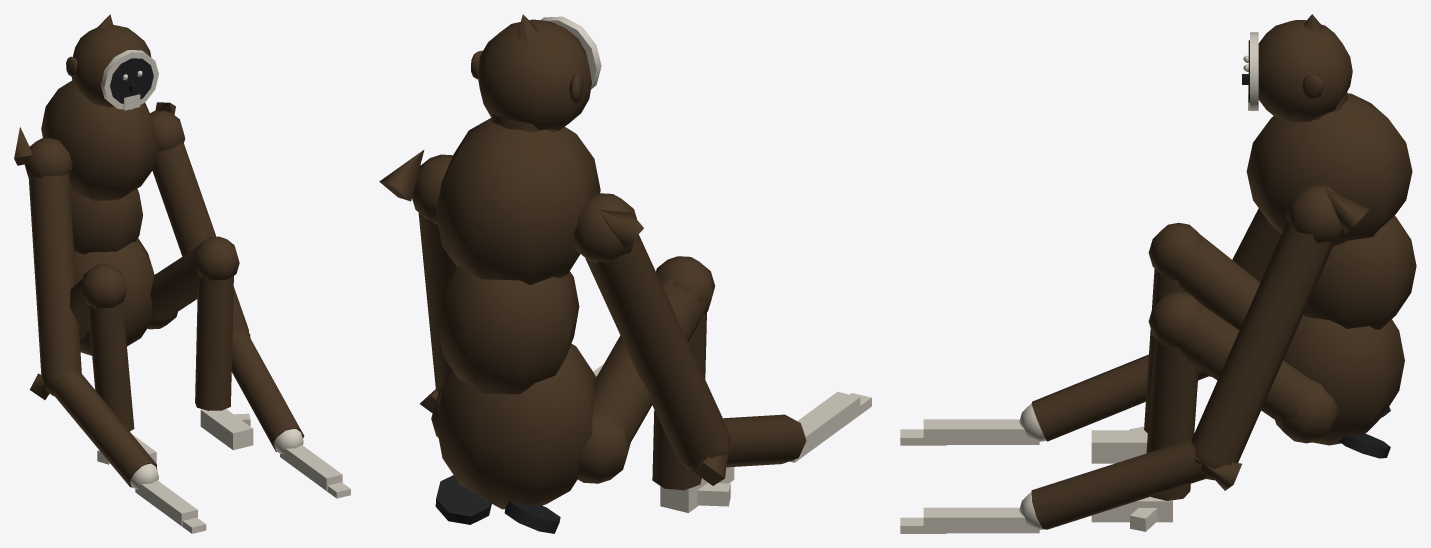
Rendered from white-handed-gibbon-sitting.glb.
3 renders of one model, left to right at view 1: azimuth 30°, elevation 25°; view 2: azimuth 150°, elevation 25°; view 3: azimuth 270°, elevation 25°, orthographic. The views are drawn at different scales.
Parts seen in each view (by area): view 1: Mesh_Chest, Mesh_UpperArmL, Mesh_ShinR, Mesh_UpperArmR, Mesh_LowerArmL, Mesh_ShinL, Mesh_Pelvis, Mesh_MidTorso, Mesh_LowerArmR, Mesh_Head, Mesh_ThighR, Mesh_KneeL (+12 smaller); view 2: Mesh_Chest, Mesh_Pelvis, Mesh_MidTorso, Mesh_UpperArmL, Mesh_Head, Mesh_ThighL, Mesh_LowerArmL, Mesh_UpperArmR, Mesh_ShoulderL, Mesh_HipL, Mesh_ShinL, Mesh_HandL (+10 smaller); view 3: Mesh_Chest, Mesh_UpperArmR, Mesh_Pelvis, Mesh_MidTorso, Mesh_Head, Mesh_LowerArmR, Mesh_LowerArmL, Mesh_ShinR, Mesh_ThighR, Mesh_ThighL, Mesh_HandR, Mesh_HandL (+11 smaller).
Boxes of the visible parts, x1,y1,x2,y2 form: Mesh_Chest: (41,80,158,200); Mesh_UpperArmL: (28,173,81,378); Mesh_ShinR: (195,276,233,410); Mesh_UpperArmR: (152,142,248,333); Mesh_LowerArmL: (52,371,157,487); Mesh_ShinL: (88,302,134,431); Mesh_Pelvis: (74,238,154,355); Mesh_MidTorso: (70,188,142,254); Mesh_LowerArmR: (231,331,304,451); Mesh_Head: (72,25,151,107); Mesh_ThighR: (150,247,207,319); Mesh_KneeL: (81,264,126,308); Mesh_Chest: (436,117,600,285); Mesh_Pelvis: (436,343,595,509); Mesh_MidTorso: (437,266,579,394); Mesh_UpperArmL: (585,234,728,464); Mesh_Head: (477,19,591,130); Mesh_ThighL: (593,272,709,443); Mesh_LowerArmL: (723,414,806,467); Mesh_UpperArmR: (418,213,455,392); Mesh_ShoulderL: (574,193,636,263); Mesh_HipL: (576,413,631,483); Mesh_ShinL: (652,312,706,490); Mesh_HandL: (789,391,860,462); Mesh_Chest: (1246,93,1412,246); Mesh_UpperArmR: (1191,221,1335,465); Mesh_Pelvis: (1283,314,1404,445); Mesh_MidTorso: (1303,216,1416,329); Mesh_Head: (1248,20,1352,122); Mesh_LowerArmR: (1031,439,1207,529); Mesh_LowerArmL: (1031,354,1209,441); Mesh_ShinR: (1146,337,1198,500); Mesh_ThighR: (1166,302,1311,424); Mesh_ThighL: (1165,233,1260,329); Mesh_HandR: (923,507,1039,533); Mesh_HandL: (923,419,1039,444).
Bounding box in the file's own units: 0.54 × 0.9038 × 0.89.
